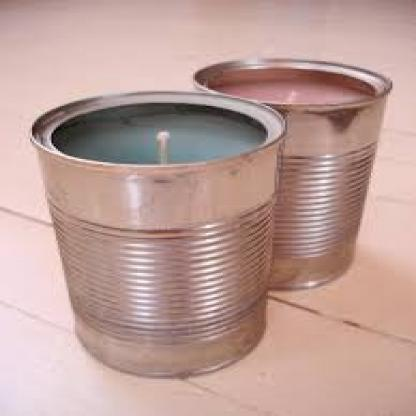Metal: (21, 19, 396, 381)
